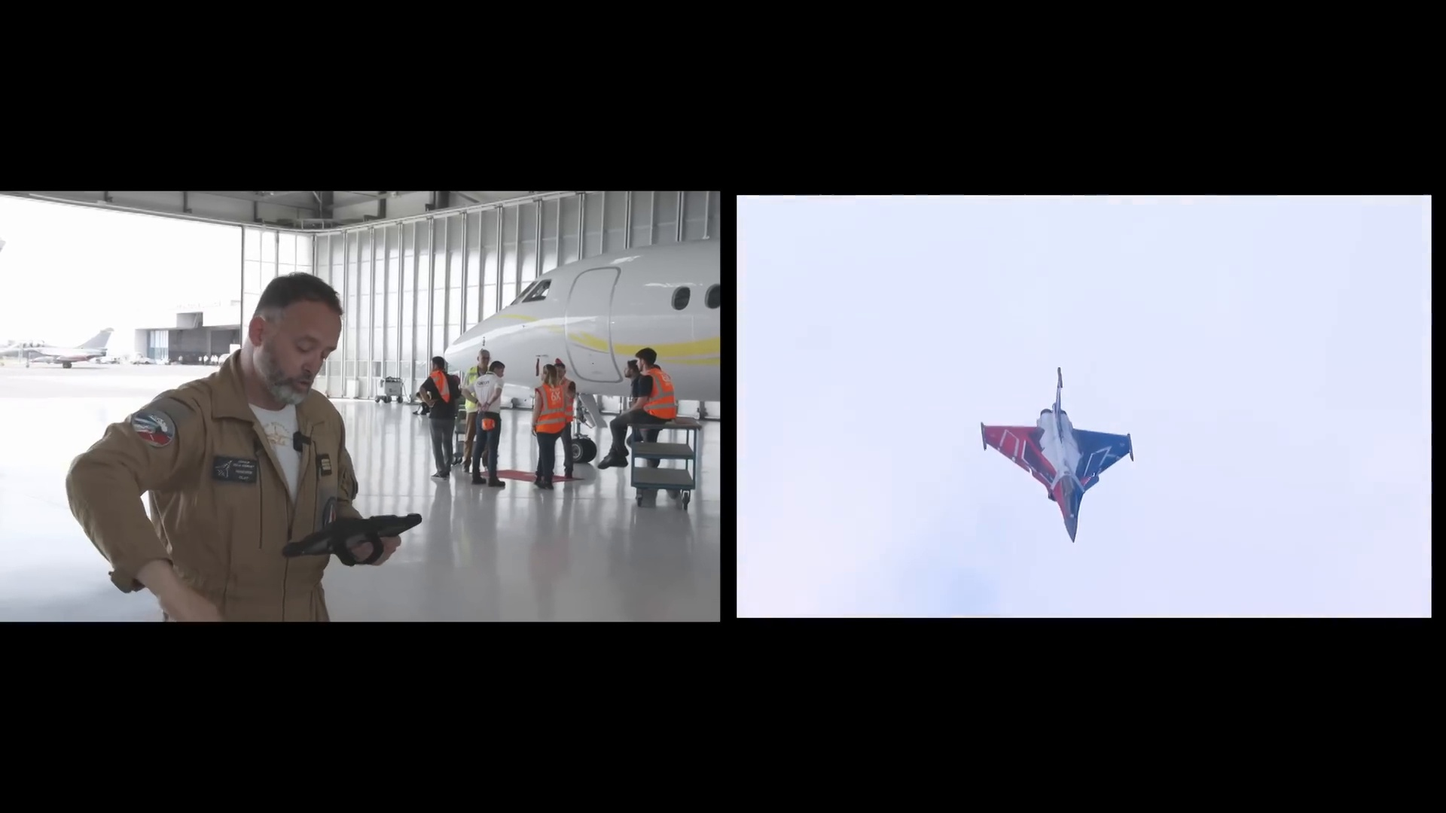Rafale: (973, 360, 1140, 546)
